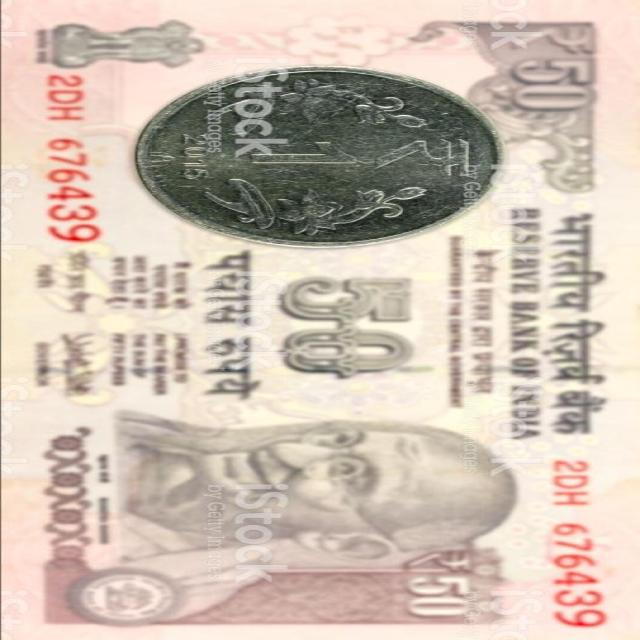50IndianRupees: (19, 7, 635, 638)
